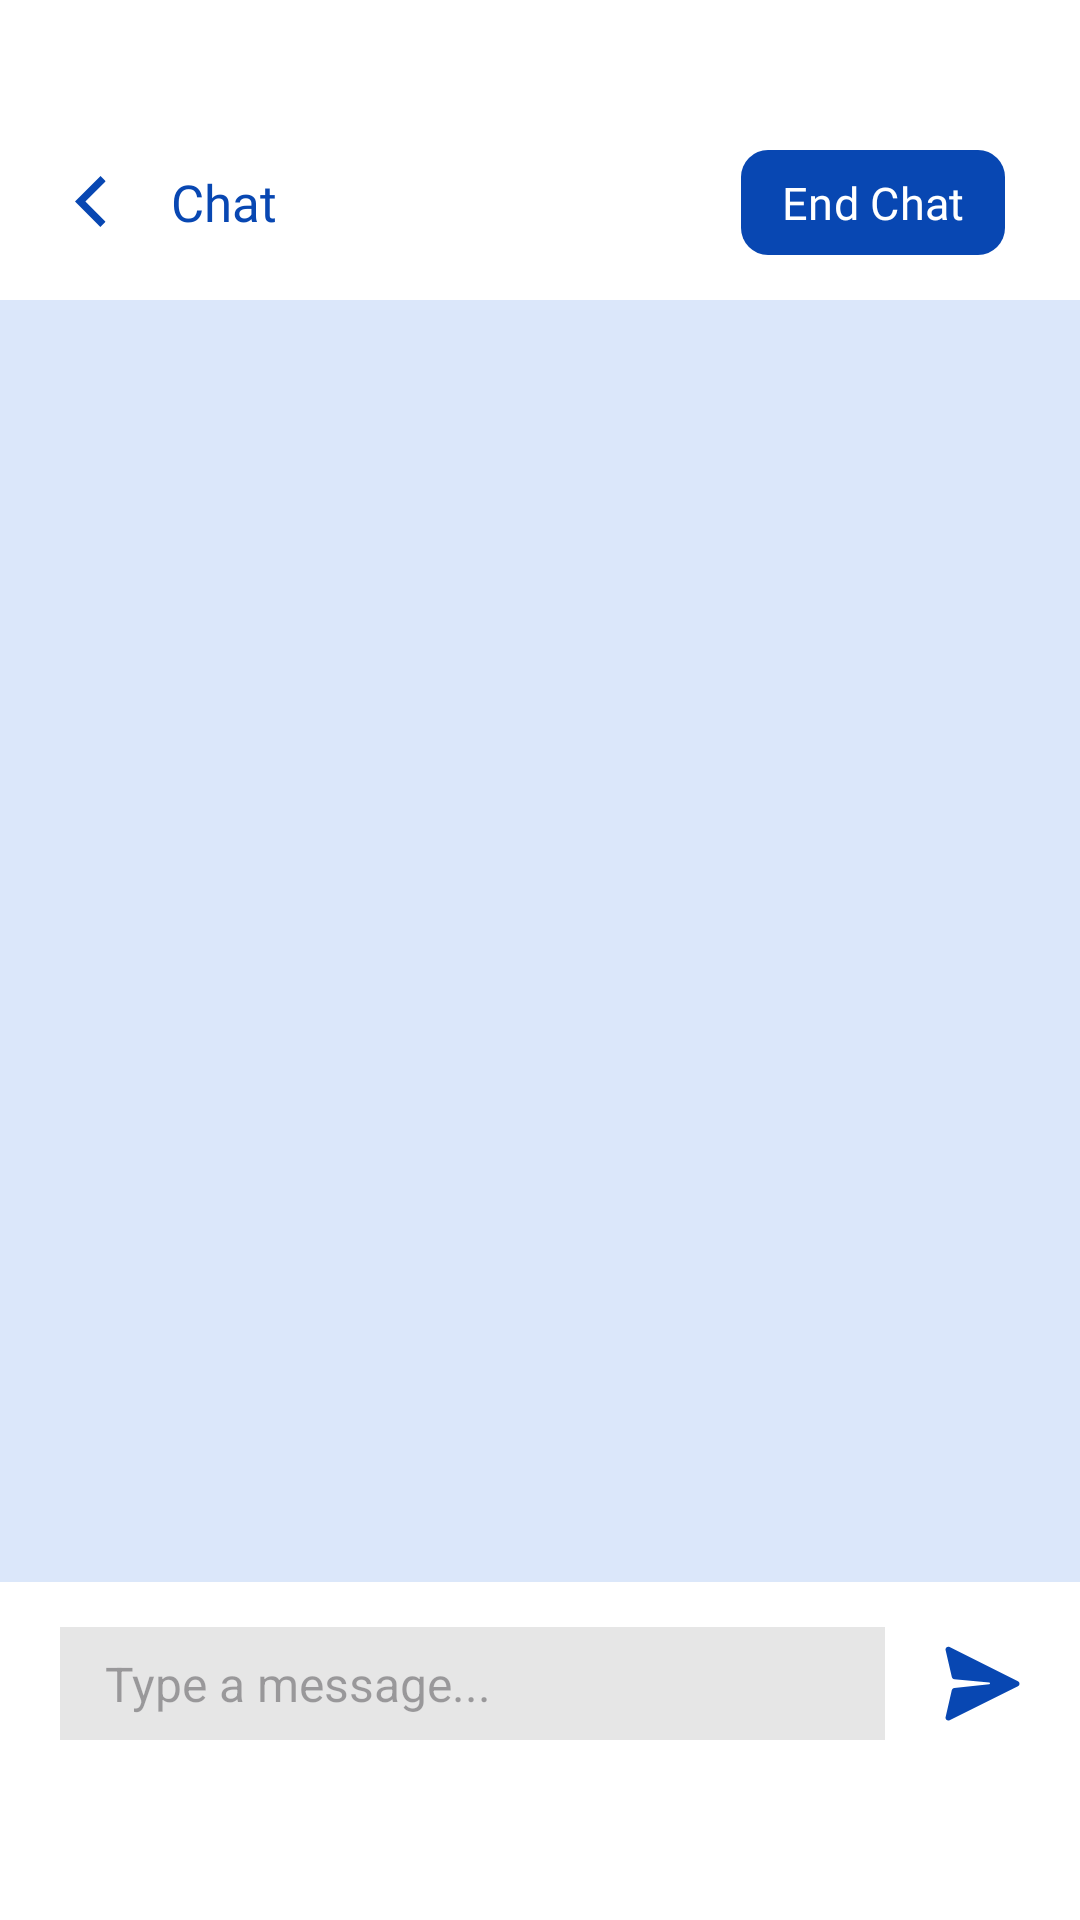

Named icons in this screenshot (1080 x 1920) and their centers, (x,y):
return: (90,201)
send: (982,1683)
